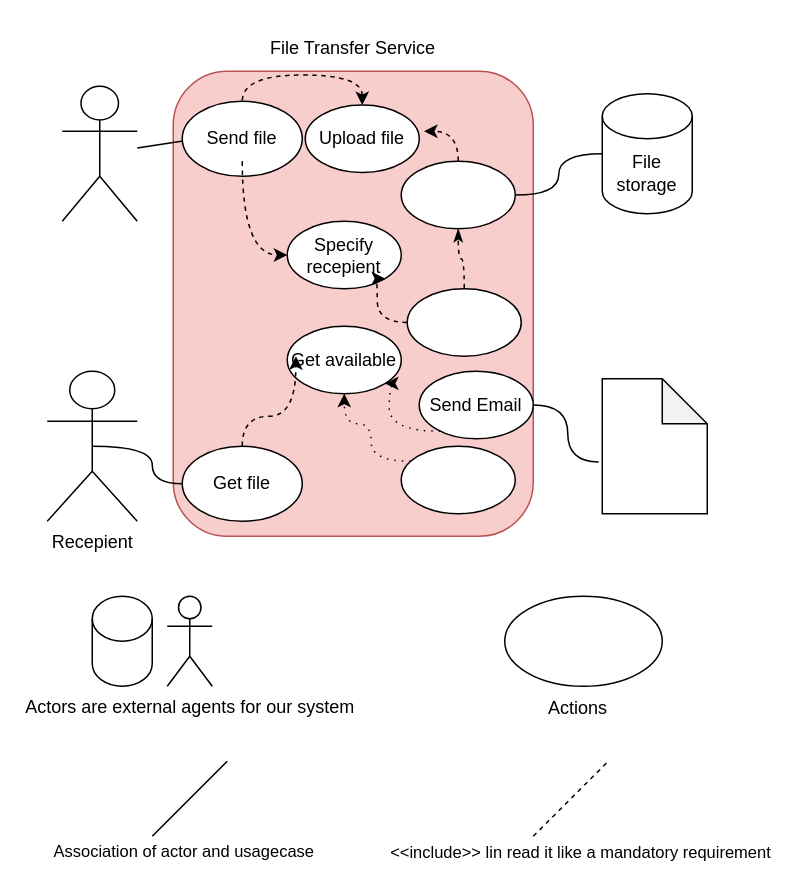
This 801x888 diagram has some shape labels left out. Here are the shapes that lost their labels. From the top down, the centre of each, then its label:
[99,153]: Sender
[457,194]: Store file
[463,321]: Save file recipient
[654,445]: Email Service
[457,479]: Get file list
